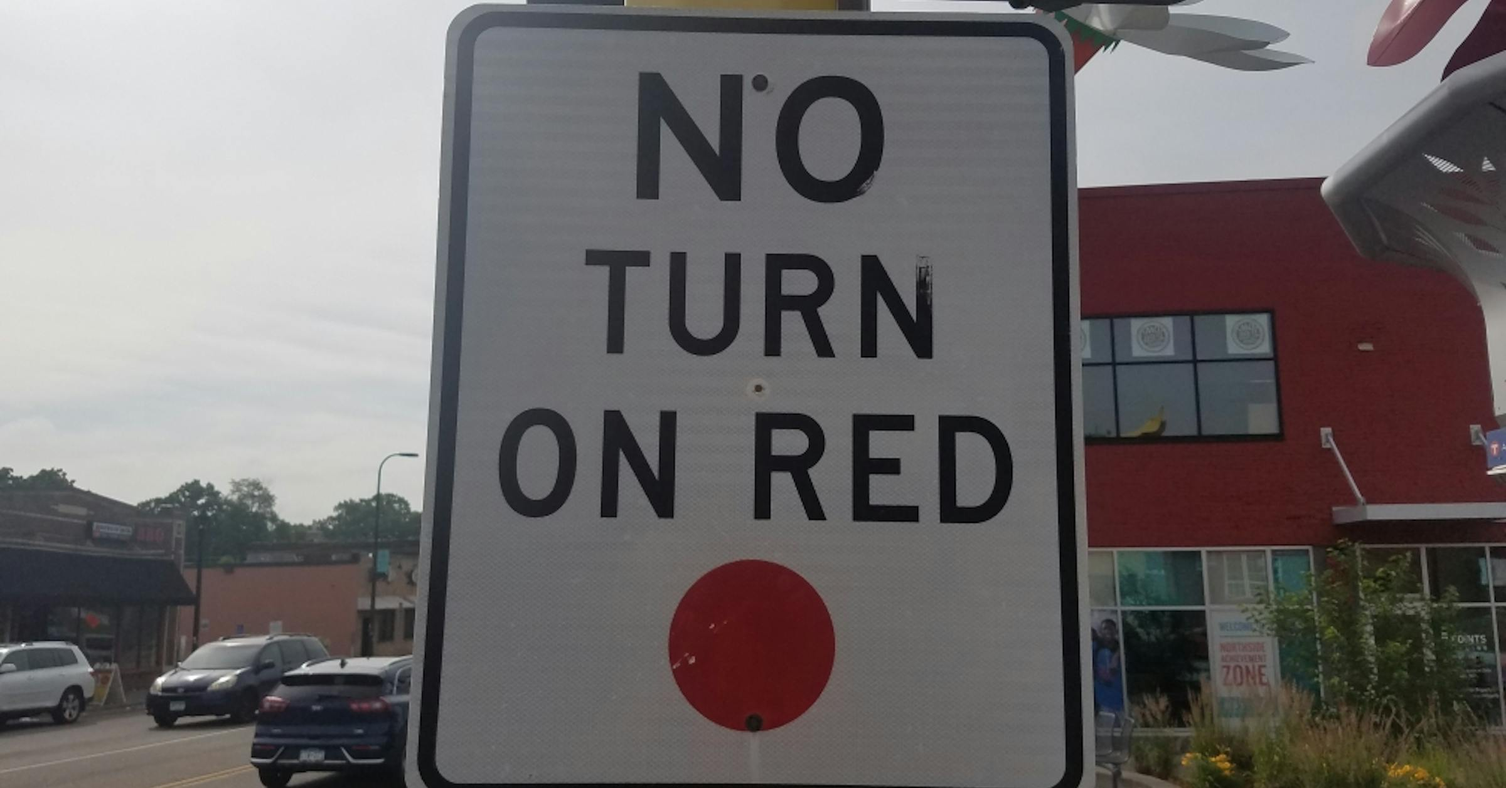No Turn on Red: (502, 59, 1035, 744)
